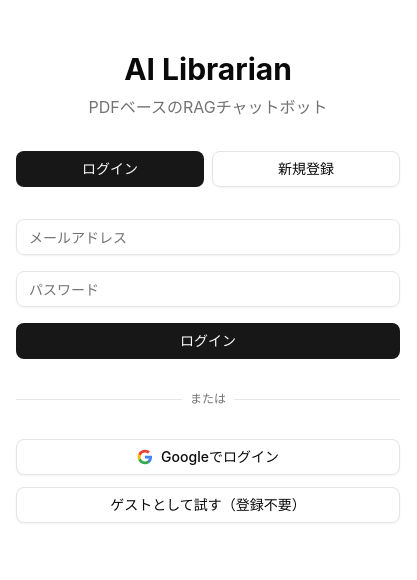
LoginPage sign-up flow › パスワードが短い場合 signUp を呼ばずエラーを出す
Click the tab with test id "auth-mode-signup": click(306, 169) [212, 151, 400, 187]
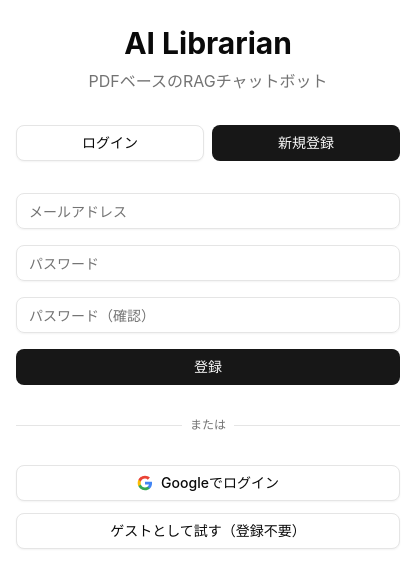
In the field with test id "email": (208, 211) [16, 193, 400, 229], type "user@example.com"
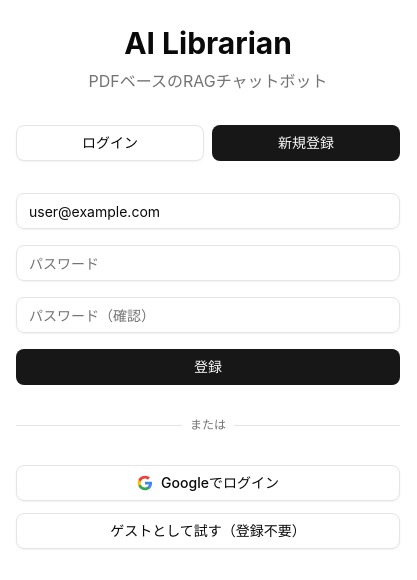
In the password field with test id "password": (208, 263) [16, 245, 400, 281], type "short"
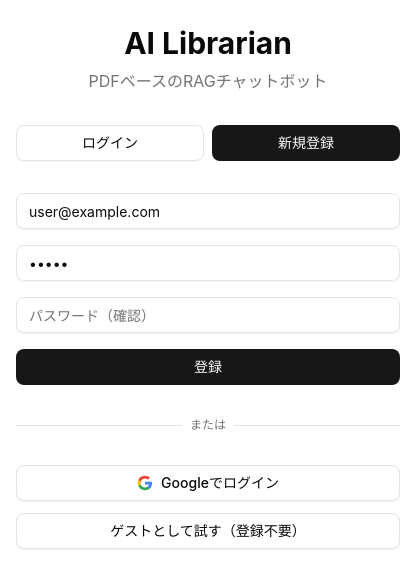
In the password field with test id "password-confirm": (208, 315) [16, 297, 400, 333], type "short"
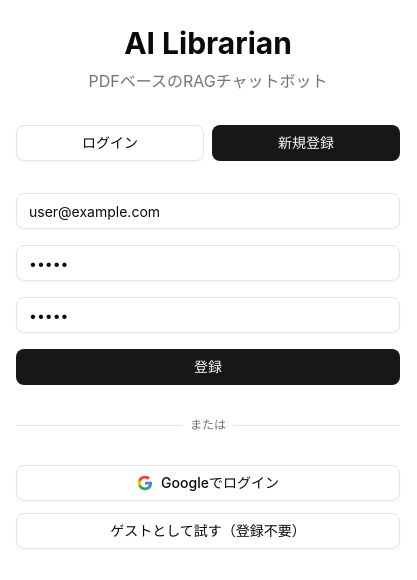
Click the button with test id "auth-submit": click(208, 367) [16, 349, 400, 385]
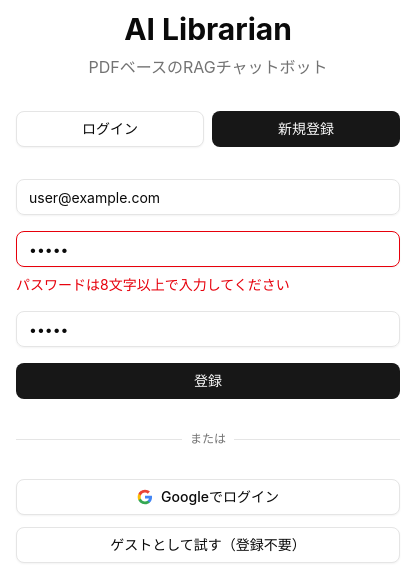
Now the text "パスワードは8文字以上で入力してください" is shown, box [16, 276, 290, 293]
